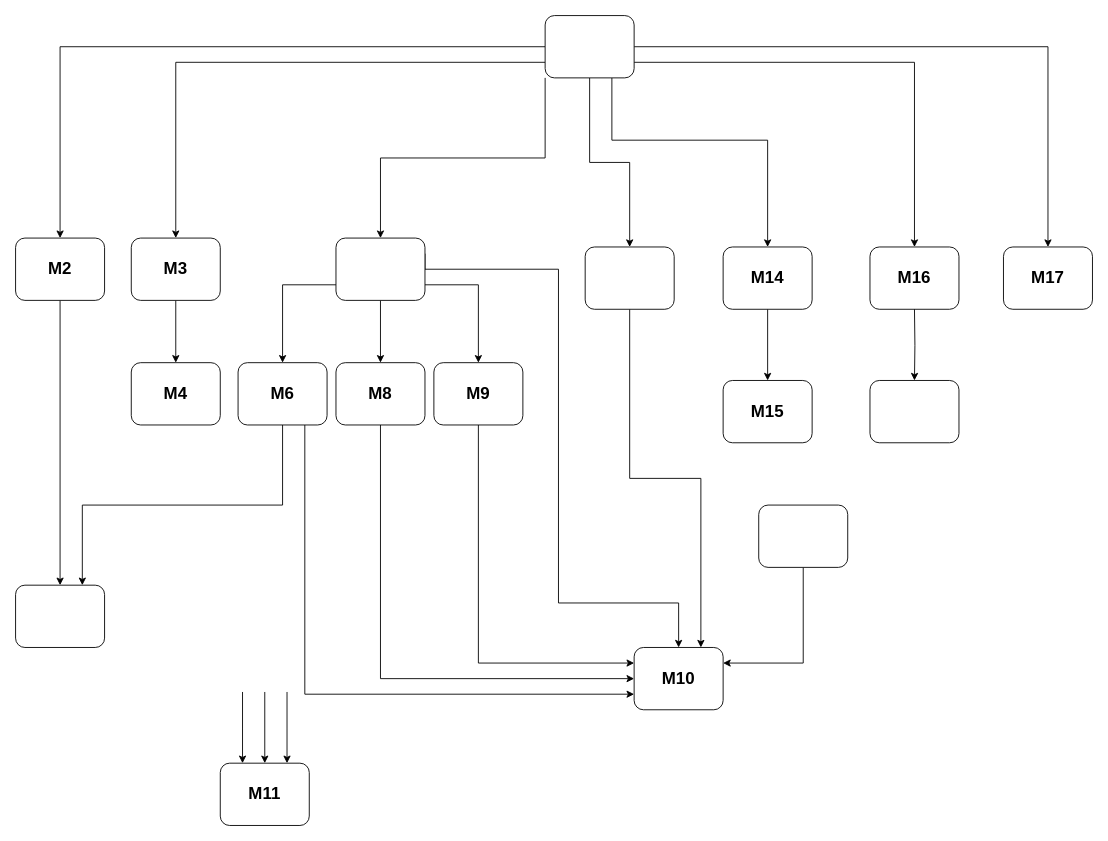
The diagram is 1108 pixels wide and 841 high, and some of its shapes have lost their labels. The centre of each missing label's shape, as x and y in pixels:
"M1" goes at (589,46).
"M12" goes at (914,411).
"M13" goes at (803,535).
"M18" goes at (380,268).
"M5" goes at (60,615).
"M7" goes at (629,277).
